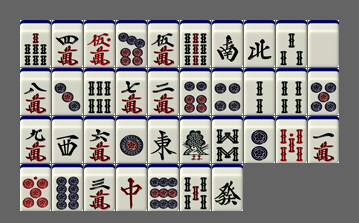0m: (84, 20, 115, 67)
0p: (20, 164, 51, 211)
0s: (276, 116, 307, 163)
1m: (308, 116, 339, 163)
1p: (116, 116, 147, 163)
1s: (180, 116, 211, 163)
1z: (148, 116, 179, 163)
2m: (148, 68, 179, 115)
2p: (244, 116, 275, 163)
2s: (244, 68, 275, 115)
2z: (212, 20, 243, 67)
3m: (84, 164, 115, 211)
3p: (52, 68, 83, 115)
3s: (276, 20, 307, 67)
3z: (52, 116, 83, 163)
4m: (52, 20, 83, 67)
4p: (212, 68, 243, 115)
4s: (276, 68, 307, 115)
4z: (244, 20, 275, 67)
5m: (148, 20, 179, 67)
5p: (308, 68, 339, 115)
5s: (180, 164, 211, 211)
5z: (308, 20, 339, 67)
6m: (84, 116, 115, 163)
6p: (180, 68, 211, 115)
6s: (84, 68, 115, 115)
6z: (212, 164, 243, 211)
7m: (116, 68, 147, 115)
7p: (116, 20, 147, 67)
7s: (20, 20, 51, 67)
7z: (116, 164, 147, 211)
8m: (20, 68, 51, 115)
8p: (52, 164, 83, 211)
8s: (212, 116, 243, 163)
9m: (20, 116, 51, 163)
9p: (148, 164, 179, 211)
9s: (180, 20, 211, 67)
